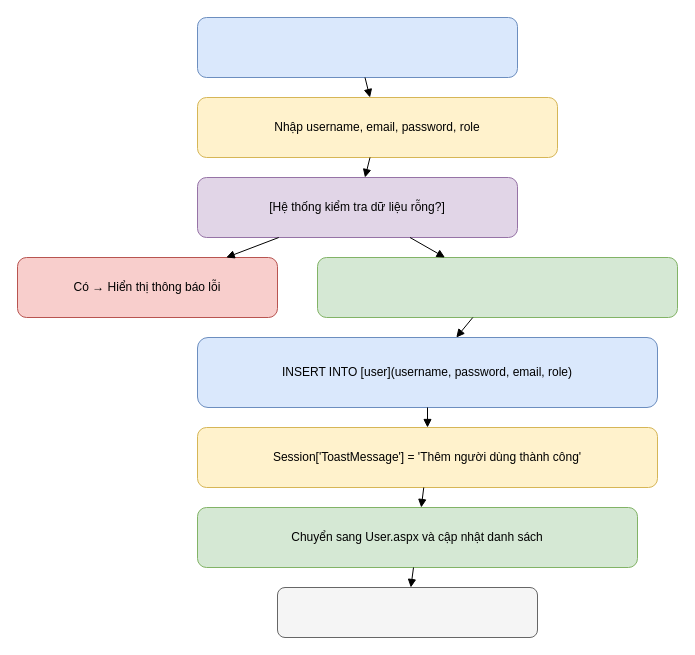
Image size: 695x655. Some labels were removed from this diagram. The centre of each missing label's shape, as x and y in pixels:
[Admin nhấn 'Thêm Người Dùng']: pixel 357 47
[Kết thúc luồng]: pixel 407 612
Không → Mã hóa mật khẩu SHA1 trong mục password: pixel 497 287
